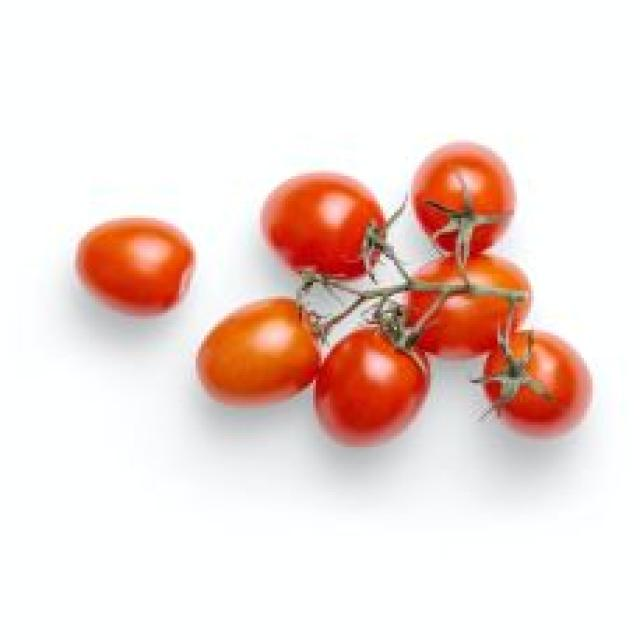level 5: (186, 289, 336, 422), (67, 197, 198, 324), (401, 240, 535, 355), (469, 339, 596, 453)
level 6: (237, 158, 405, 286), (288, 328, 429, 463), (406, 126, 525, 250)
